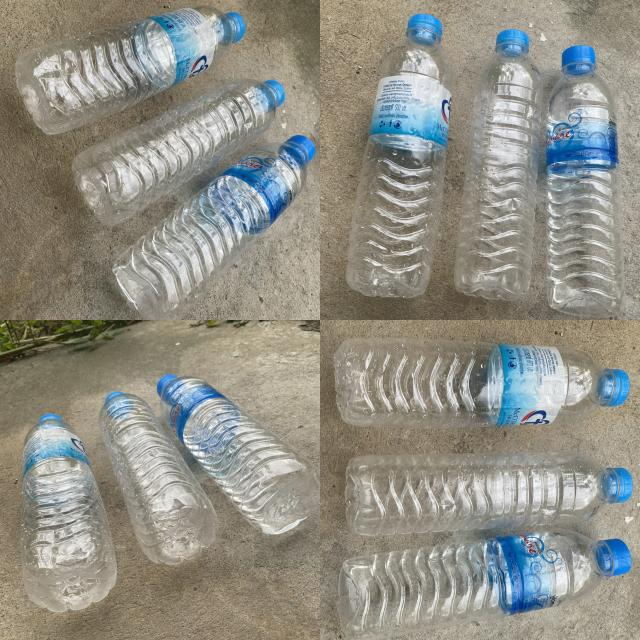plastik: (114, 136, 314, 319), (339, 530, 631, 640), (72, 79, 285, 224), (346, 14, 452, 298), (16, 6, 245, 133), (334, 338, 629, 428), (158, 376, 319, 534), (346, 452, 632, 536), (456, 30, 542, 301), (546, 45, 625, 317), (99, 391, 219, 564), (21, 414, 116, 612)
